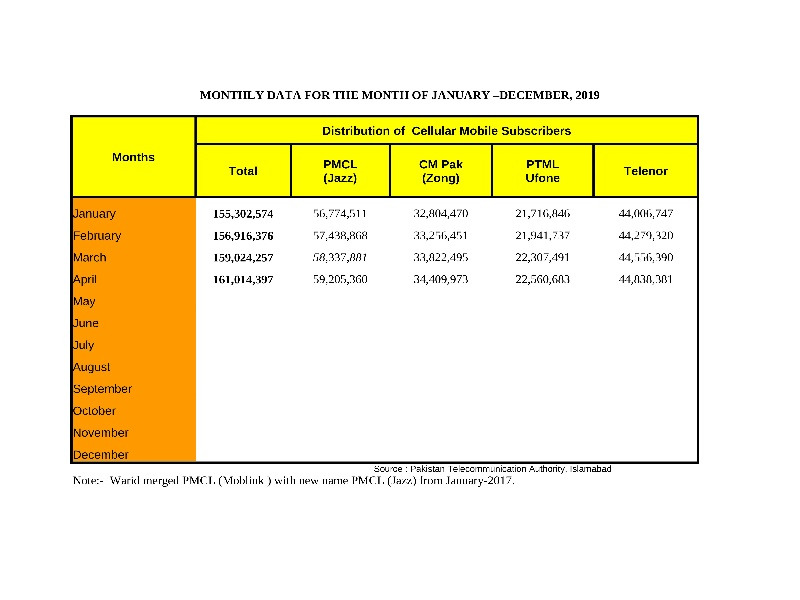borderless: (71, 114, 701, 464)
cell: (318, 122, 575, 139), (414, 156, 468, 188), (316, 155, 366, 188), (520, 156, 568, 185), (210, 271, 278, 291), (613, 271, 681, 291), (408, 226, 473, 246), (307, 271, 375, 290), (211, 227, 277, 246), (511, 271, 580, 289), (613, 249, 678, 268), (210, 248, 278, 266), (614, 204, 678, 223), (106, 146, 161, 168), (510, 203, 577, 221), (309, 228, 375, 246), (308, 249, 374, 267), (511, 227, 576, 245), (511, 249, 576, 267), (409, 272, 474, 290), (409, 250, 473, 268), (613, 227, 680, 244), (309, 205, 371, 223), (211, 205, 276, 222), (71, 424, 131, 442), (409, 204, 471, 221), (619, 162, 677, 180), (71, 228, 124, 246), (71, 448, 132, 463), (71, 382, 136, 396), (71, 204, 121, 222), (71, 403, 120, 419), (71, 249, 110, 267), (71, 360, 116, 375), (226, 163, 263, 181), (71, 315, 102, 333), (71, 294, 100, 311), (72, 337, 99, 354), (72, 273, 100, 289)
